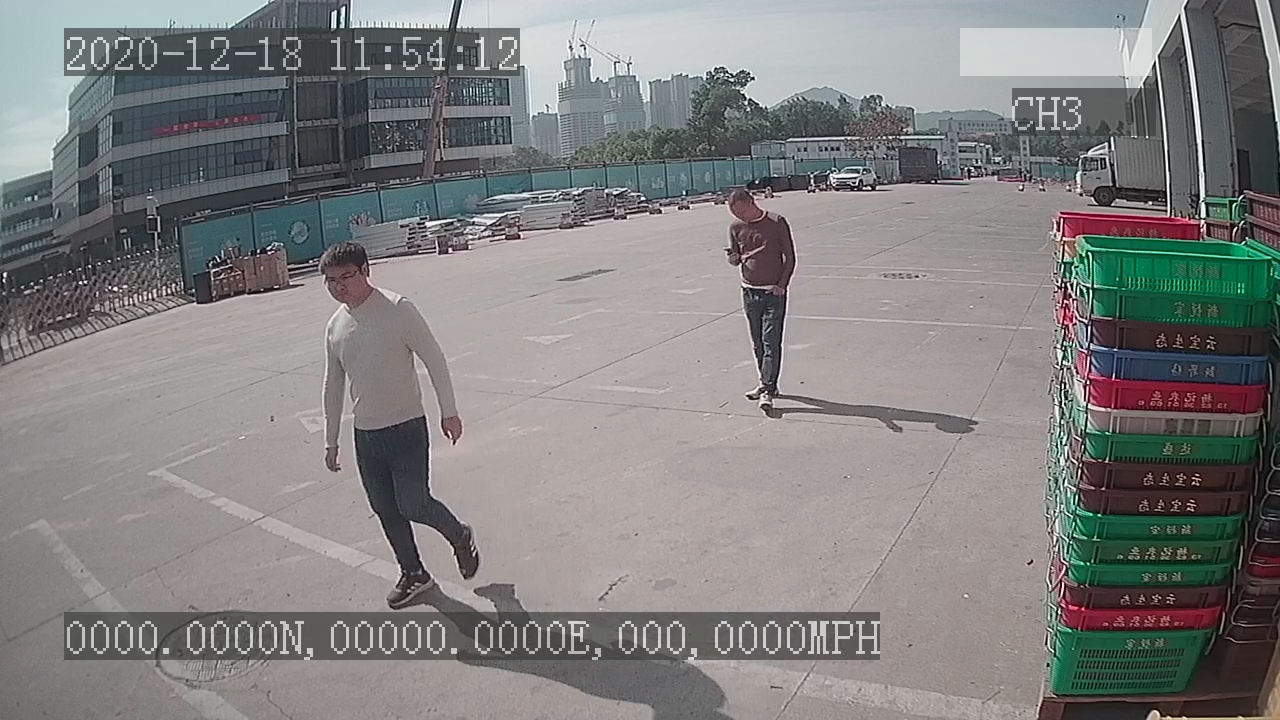person: (304, 240, 492, 608), (717, 179, 799, 422)
